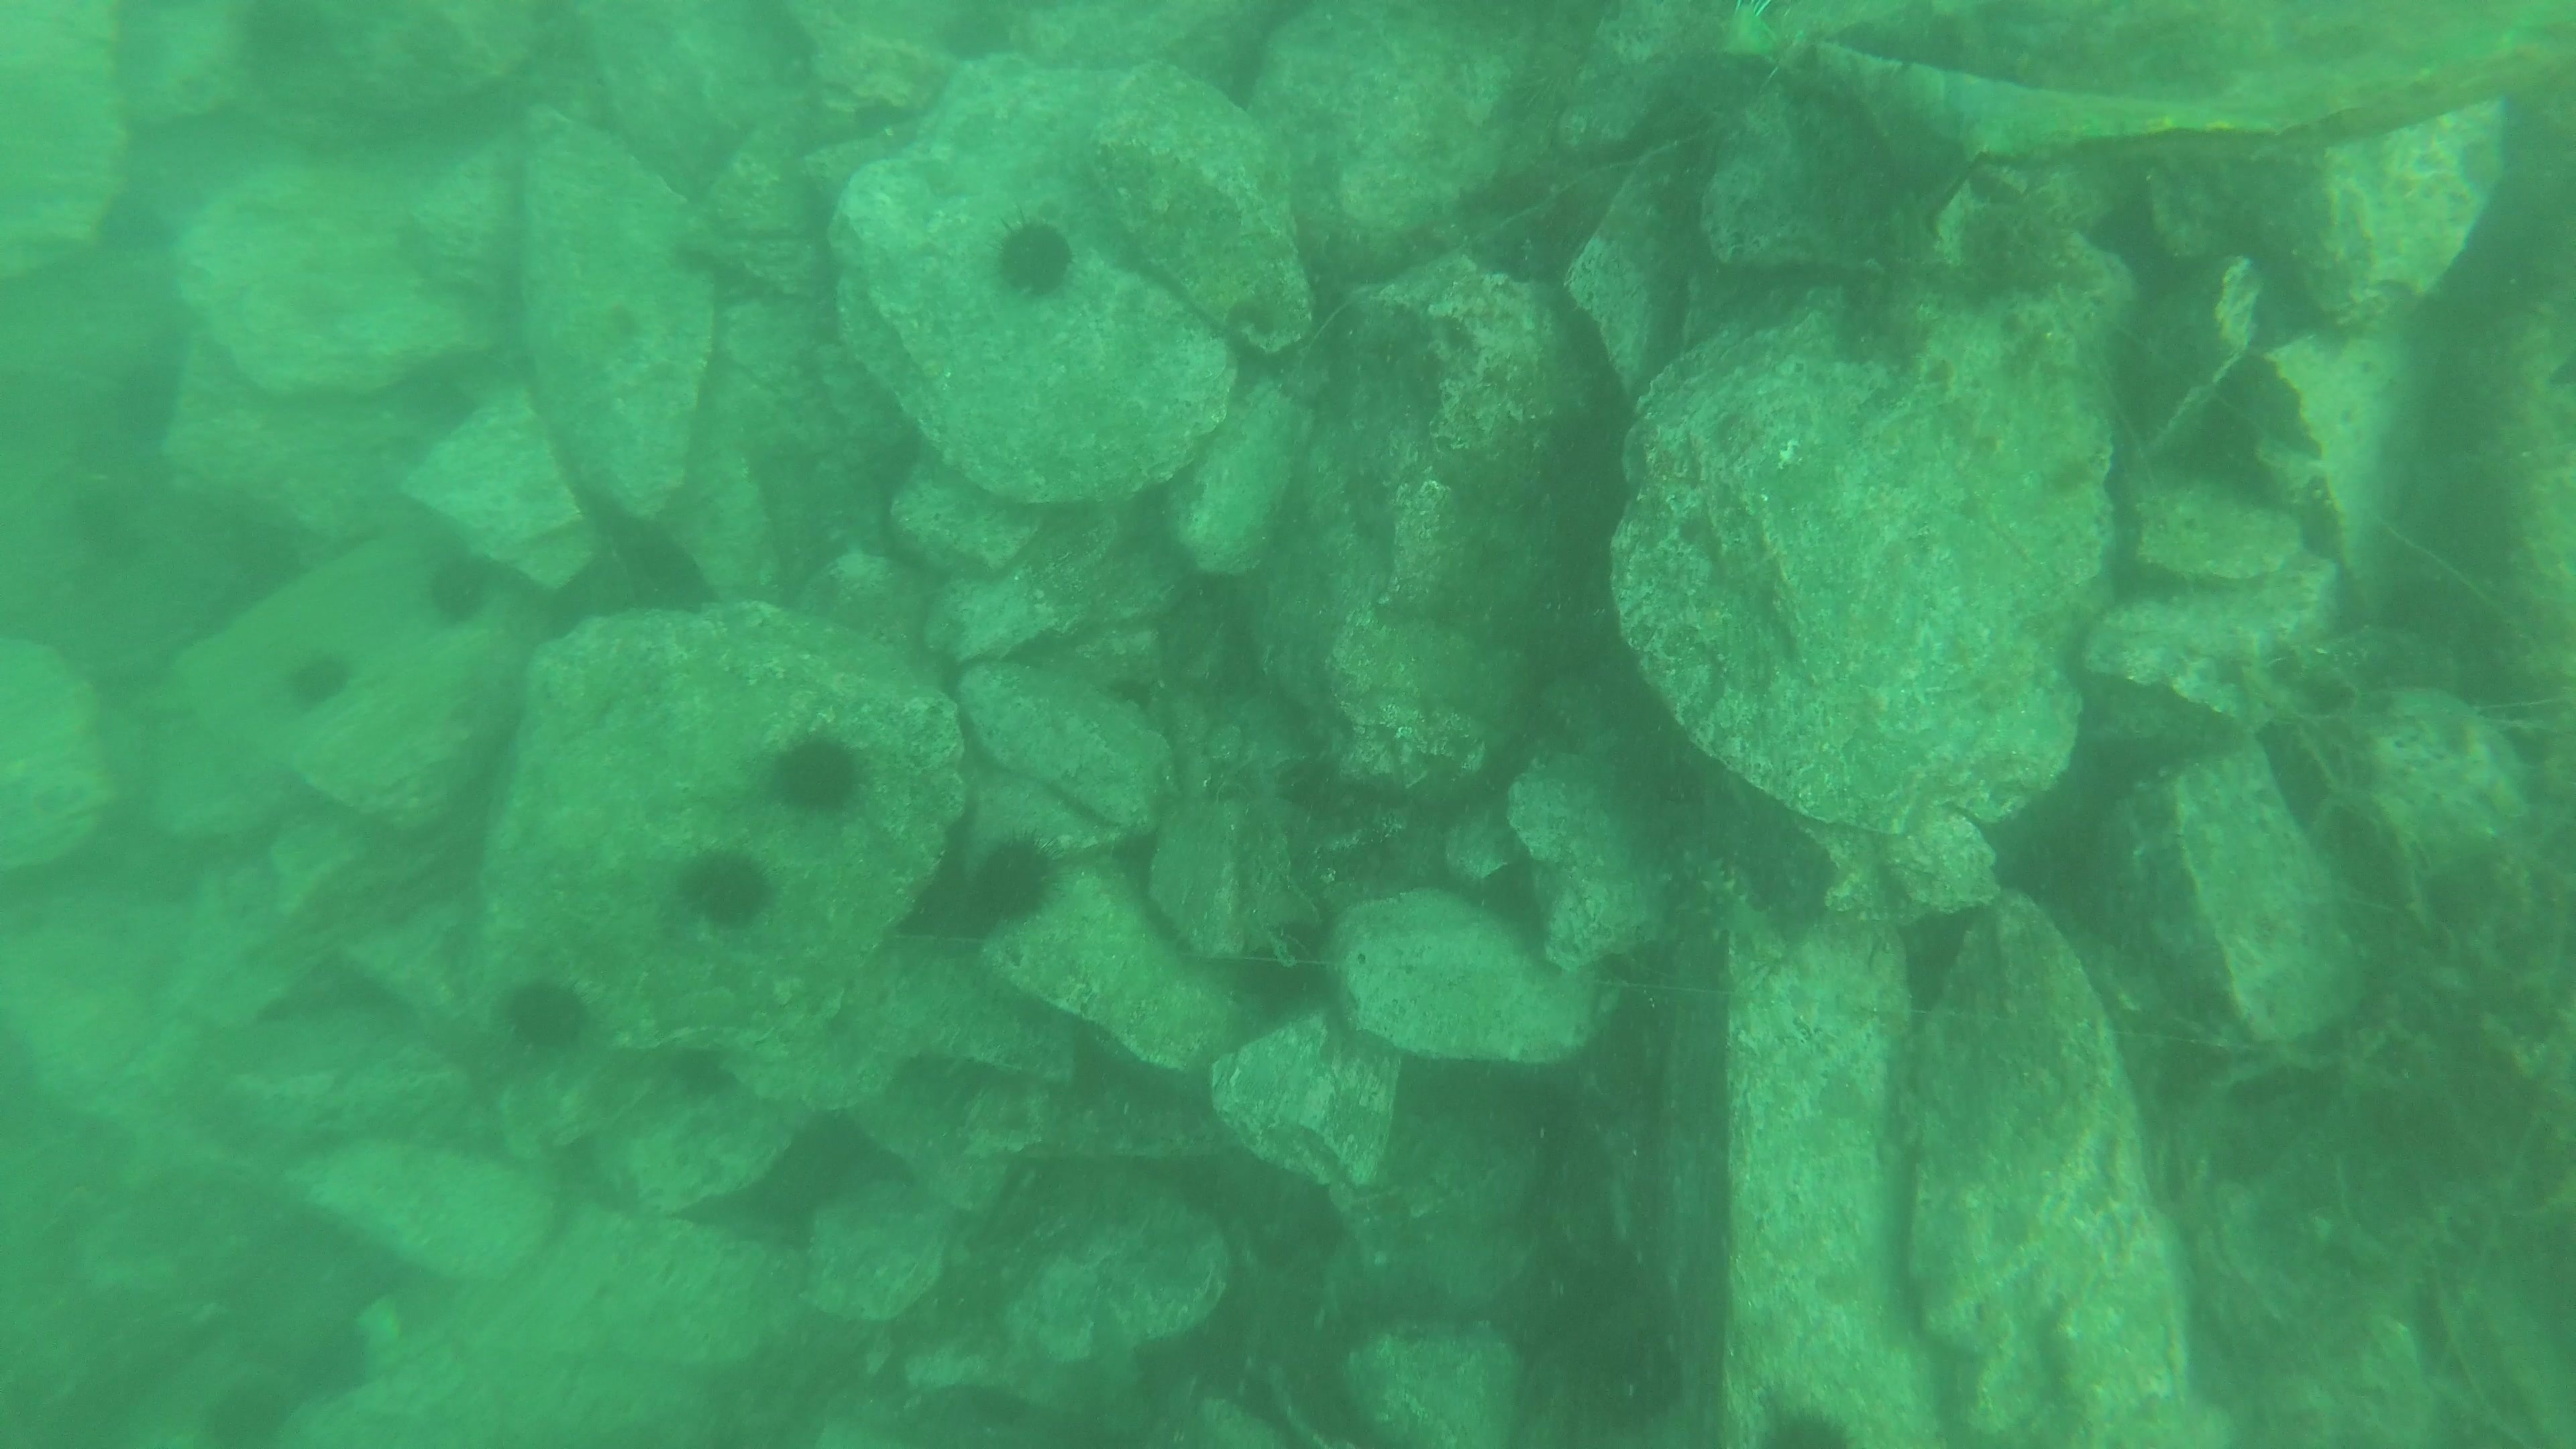echinus: (955, 826, 1067, 936), (759, 722, 874, 823), (672, 840, 780, 936), (984, 209, 1085, 306), (492, 970, 598, 1062), (418, 547, 499, 632), (276, 642, 359, 717), (660, 1035, 743, 1109), (1744, 1396, 1835, 1449)
holothurian: (1672, 833, 1773, 966)
